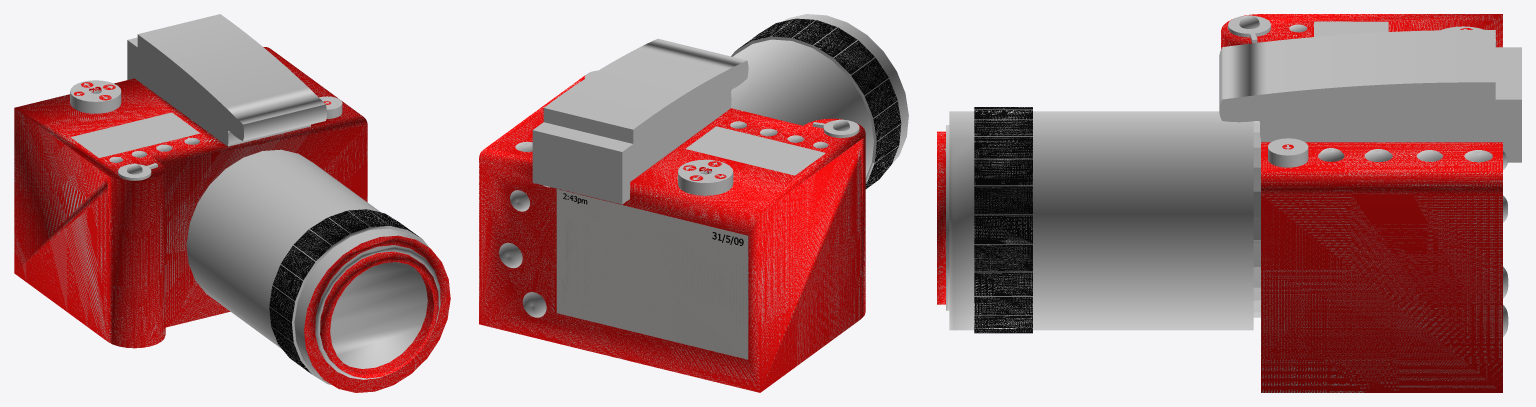
File: model_align.obj
3 views of the same model, side by side, from view 1: azimuth 30°, elevation 25°; view 2: azimuth 150°, elevation 25°; view 3: azimuth 270°, elevation 25° (orthographic). The views are drawn at different scales.
Visible parts, largest first — view 1: mesh42_mesh42-geometry, mesh50_mesh50-geometry, mesh45_mesh45-geometry, mesh43_mesh43-geometry; view 2: mesh42_mesh42-geometry, mesh50_mesh50-geometry, mesh45_mesh45-geometry, mesh43_mesh43-geometry; view 3: mesh42_mesh42-geometry, mesh50_mesh50-geometry, mesh44_mesh44-geometry, mesh43_mesh43-geometry.
Boxes of the visible parts, x1,y1,x2,y2 form: mesh42_mesh42-geometry: (14,14,367,348); mesh50_mesh50-geometry: (186,149,450,392); mesh45_mesh45-geometry: (70,80,121,113); mesh43_mesh43-geometry: (118,163,157,180); mesh42_mesh42-geometry: (479,38,865,392); mesh50_mesh50-geometry: (731,14,908,188); mesh45_mesh45-geometry: (678,159,733,195); mesh43_mesh43-geometry: (812,119,859,137); mesh42_mesh42-geometry: (1219,14,1521,392); mesh50_mesh50-geometry: (937,107,1260,333); mesh44_mesh44-geometry: (1268,138,1308,167); mesh43_mesh43-geometry: (1228,15,1270,43).
Bounding box in the file's own units: 0.153 × 0.1192 × 0.23.
